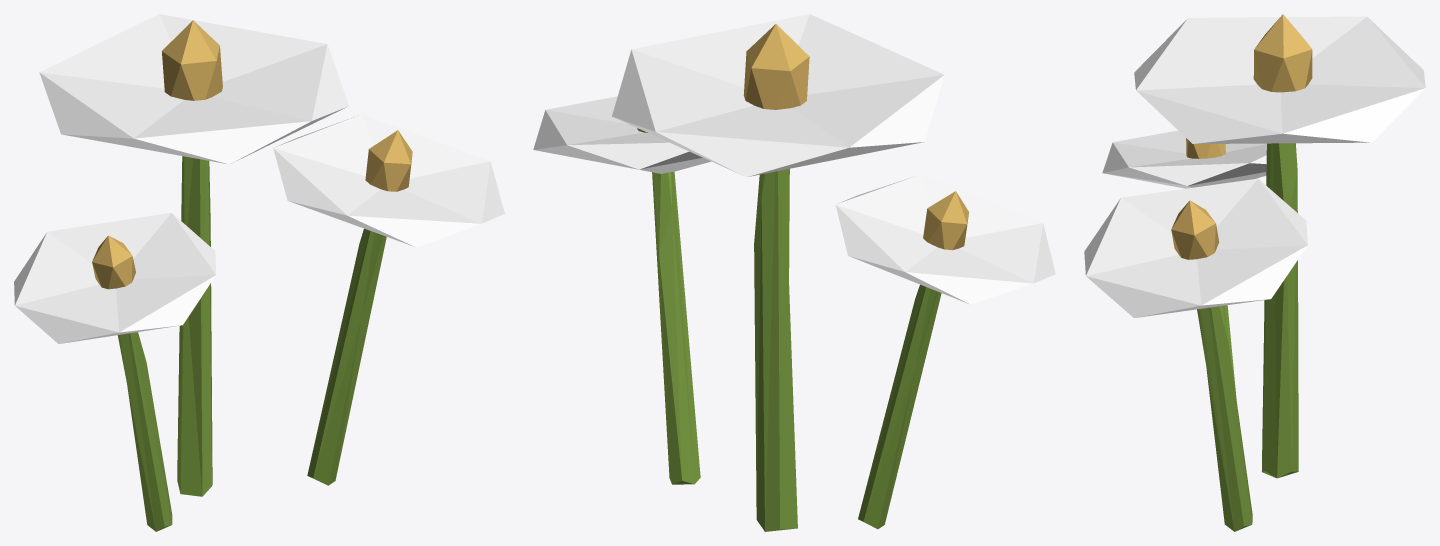
Rendered from Flower_01.glb.
3 renders of one model, left to right at view 1: azimuth 30°, elevation 25°; view 2: azimuth 150°, elevation 25°; view 3: azimuth 270°, elevation 25°, orthographic. The views are drawn at different scales.
Visible parts, largest first — view 1: Flower_01_LOD0; view 2: Flower_01_LOD0; view 3: Flower_01_LOD0.
Boxes of the visible parts, x1=… form: Flower_01_LOD0: x1=14, y1=14, x2=504, y2=531; Flower_01_LOD0: x1=533, y1=14, x2=1055, y2=531; Flower_01_LOD0: x1=1084, y1=14, x2=1425, y2=531.
Size of what is drawn, in the model's own units: 0.1483 by 0.1439 by 0.0964.
1 material, 1 textured.
